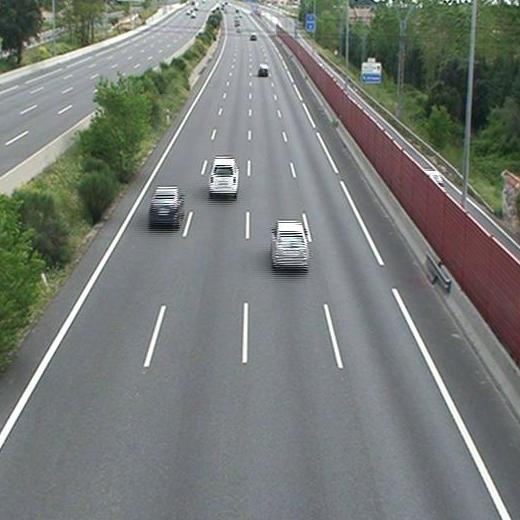car: (272, 221, 308, 266), (208, 158, 238, 194), (150, 188, 182, 220), (257, 64, 268, 75)
